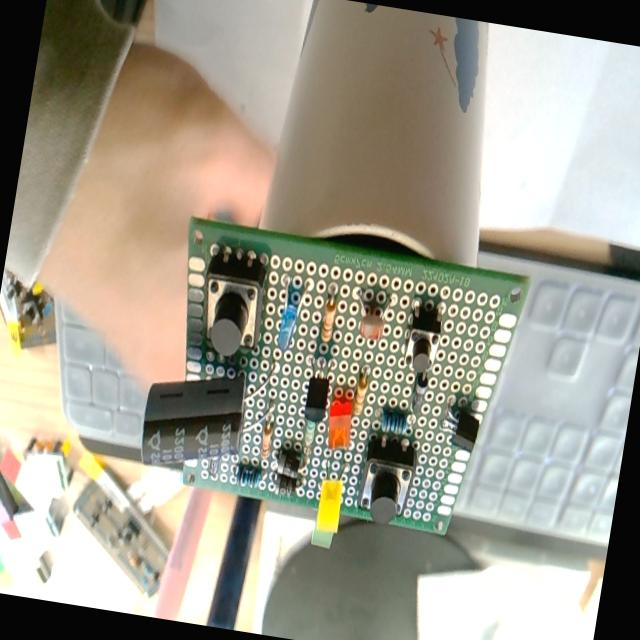Electrolytic capacitor: (136, 358, 252, 480)
cds: (352, 290, 392, 344)
diode: (274, 448, 303, 480), (410, 372, 430, 416), (274, 473, 298, 498)
led: (268, 274, 306, 356), (322, 391, 357, 454), (314, 478, 346, 534)
resistor: (319, 297, 338, 345), (379, 409, 410, 437), (351, 372, 369, 418), (235, 464, 262, 490), (300, 421, 316, 464), (259, 421, 275, 461)
switch: (193, 246, 272, 362), (355, 432, 420, 526), (402, 302, 444, 377)
transistor: (438, 404, 482, 454), (302, 372, 332, 426)
